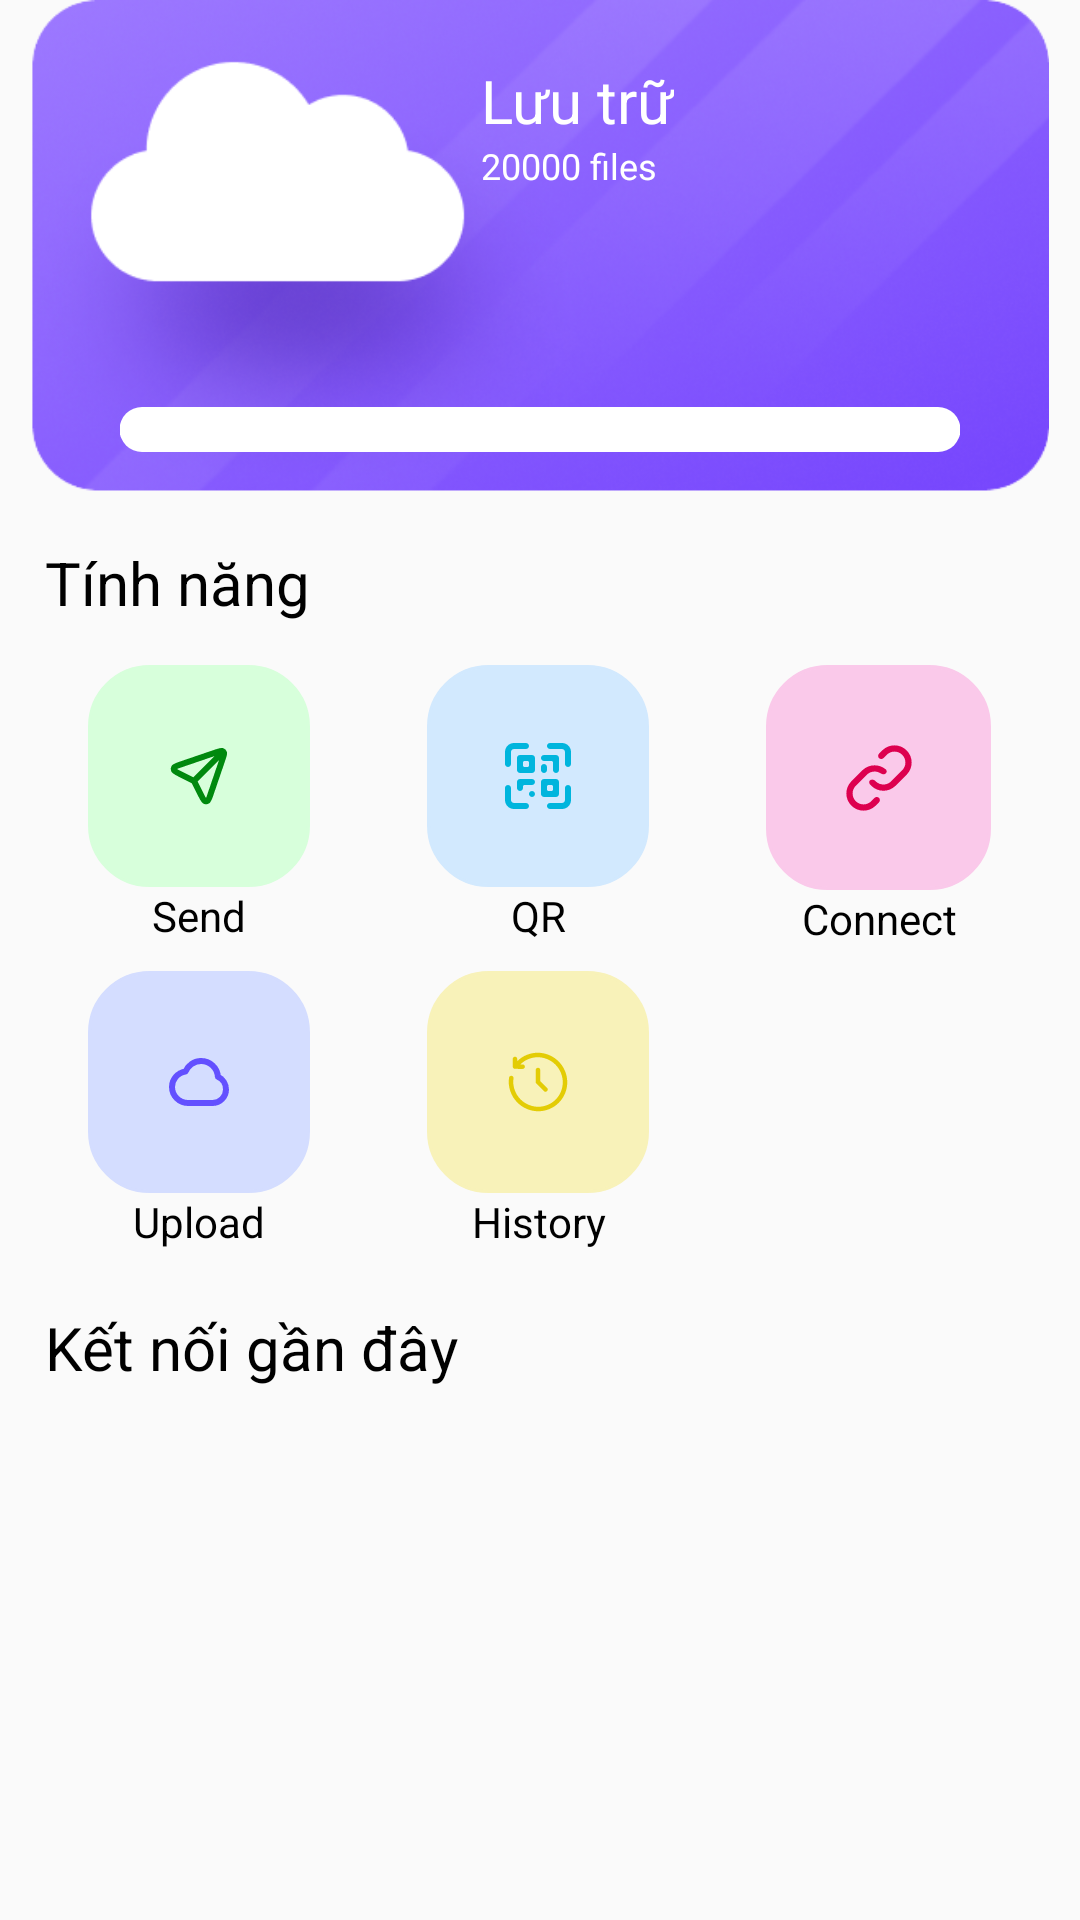

Icons on this 1080×1920 Android screen, each with its box as (x1, y1, x2, y2):
anchor link: (766, 665, 991, 890)
cloud: (88, 971, 310, 1193)
